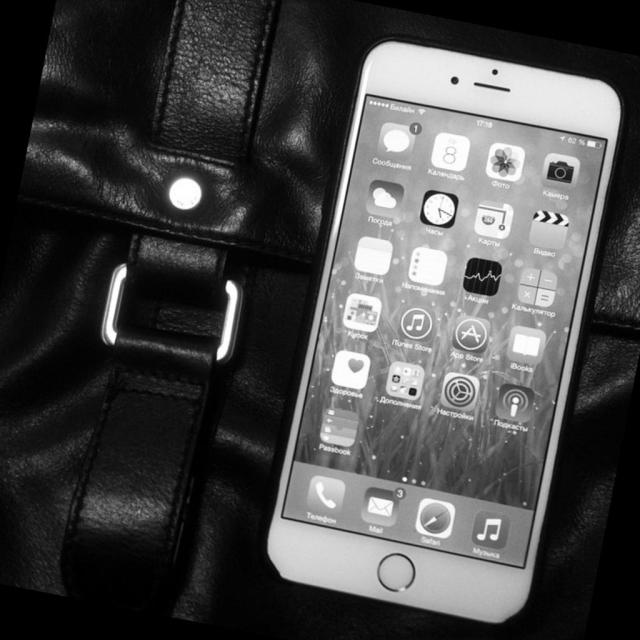handphone: (268, 47, 624, 619)
